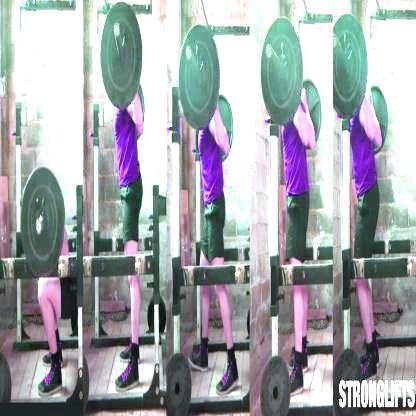Barbell: (184, 41, 195, 64), (264, 41, 275, 64), (35, 217, 44, 238), (114, 20, 121, 41)
